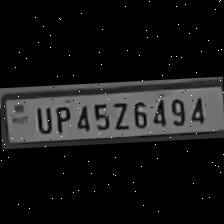4: (70, 100, 92, 131), (185, 92, 207, 123), (147, 95, 167, 126)
5: (88, 99, 110, 130)
6: (128, 96, 148, 127)
9: (166, 94, 186, 124)
P: (50, 101, 72, 132)
U: (31, 102, 54, 133)
Z: (108, 97, 130, 128)
